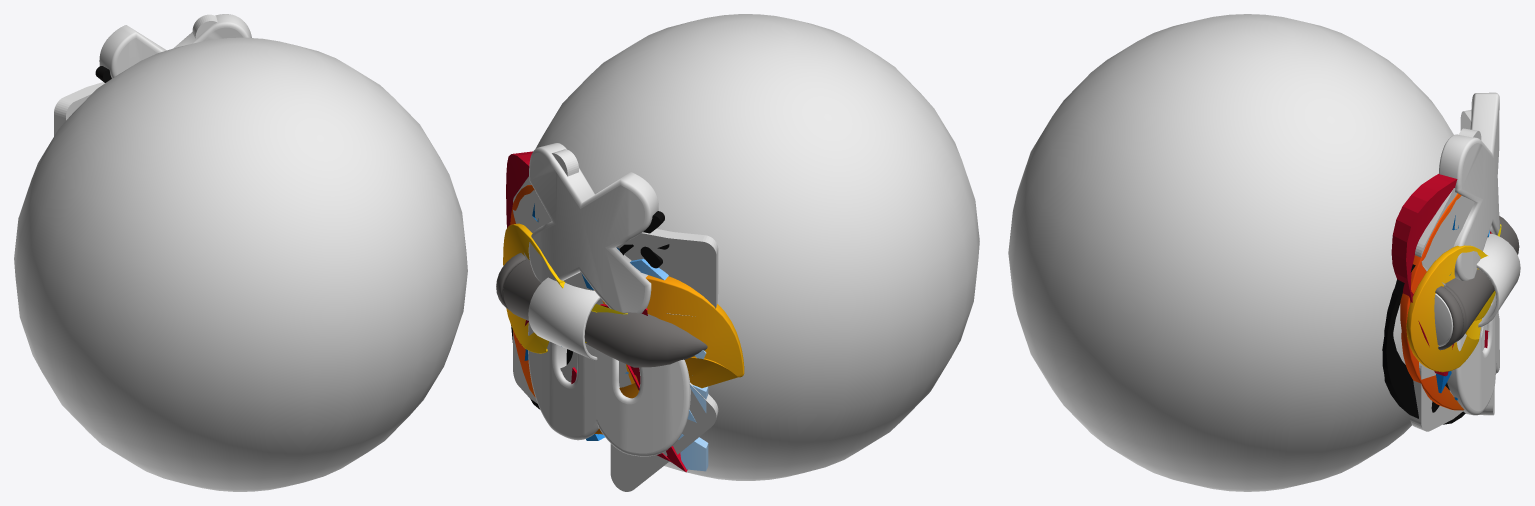
The model's file is FiredBallerAller.fbx.
The picture shows the model from 3 angles, left to right: view 1: azimuth 30°, elevation 25°; view 2: azimuth 150°, elevation 25°; view 3: azimuth 270°, elevation 25°; orthographic projection. The views are drawn at different scales.
Visible parts, largest first — view 1: Sphere, triple.001, ricochet.001; view 2: Sphere, triple.001, bigger.001, ricochet.001, fire.001, ice.001, critical.001, bomb.001; view 3: Sphere, triple.001, fire.001, bigger.001, ricochet.001, critical.001, bomb.001.
Boxes of the visible parts, left/top/right/bottom form: Sphere: left=14, top=37, right=467, bottom=491; triple.001: left=99, top=14, right=251, bottom=78; ricochet.001: left=54, top=14, right=217, bottom=135; Sphere: left=535, top=14, right=979, bottom=480; triple.001: left=528, top=143, right=690, bottom=456; bigger.001: left=496, top=253, right=707, bottom=367; ricochet.001: left=513, top=149, right=718, bottom=491; fire.001: left=503, top=185, right=744, bottom=434; ice.001: left=524, top=203, right=708, bottom=471; critical.001: left=506, top=151, right=687, bottom=472; bomb.001: left=511, top=211, right=669, bottom=409; Sphere: left=1008, top=14, right=1453, bottom=491; triple.001: left=1439, top=92, right=1499, bottom=415; fire.001: left=1400, top=193, right=1501, bottom=410; bigger.001: left=1434, top=216, right=1520, bottom=350; ricochet.001: left=1410, top=110, right=1494, bottom=431; critical.001: left=1391, top=174, right=1492, bottom=376; bomb.001: left=1382, top=264, right=1486, bottom=424.
Size of the model in its own units: 200 by 200 by 214.
